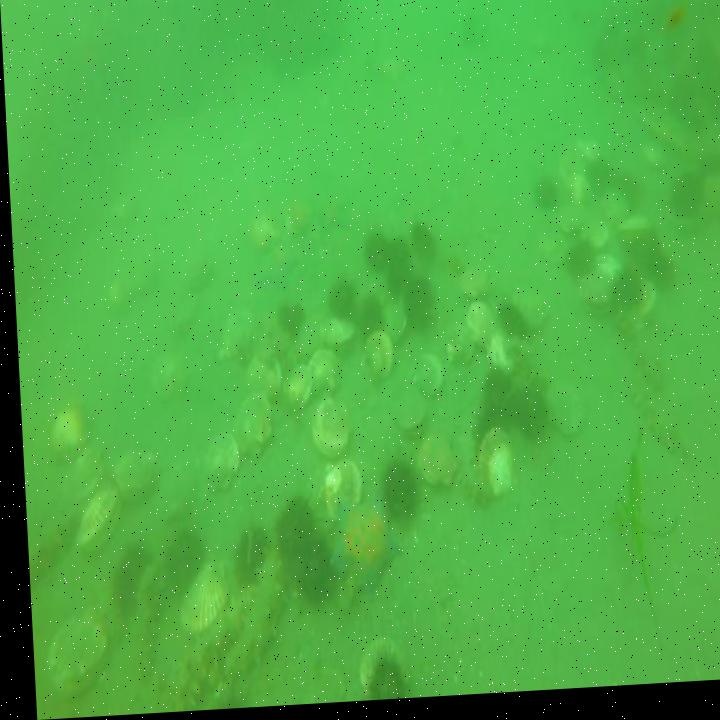echinus: (371, 451, 417, 533), (283, 537, 330, 616), (268, 493, 312, 568), (502, 384, 549, 454), (102, 540, 142, 619), (158, 527, 202, 598), (227, 528, 265, 599), (474, 363, 514, 427), (357, 648, 401, 705), (466, 395, 504, 455), (398, 279, 433, 338), (667, 176, 701, 232), (322, 276, 355, 332), (379, 243, 408, 303), (627, 231, 659, 282), (611, 175, 644, 224), (272, 301, 304, 350), (407, 221, 436, 273), (492, 302, 524, 349), (644, 257, 674, 305), (582, 161, 611, 210), (562, 243, 594, 287), (359, 229, 388, 277), (528, 177, 558, 221), (352, 298, 382, 341), (607, 275, 637, 317), (227, 334, 254, 374)
holothurian: (202, 550, 283, 712), (156, 589, 247, 712), (114, 561, 162, 689), (20, 497, 83, 579), (163, 297, 199, 341)
scallop: (38, 608, 105, 702), (169, 565, 227, 639), (68, 485, 119, 565), (227, 388, 273, 470), (468, 434, 516, 512), (193, 426, 238, 504), (306, 390, 351, 466), (408, 431, 456, 501), (102, 450, 160, 506), (539, 379, 586, 448), (316, 455, 360, 528), (142, 344, 189, 412), (42, 399, 90, 463), (213, 302, 256, 370), (349, 641, 393, 698), (240, 345, 279, 407), (578, 263, 619, 318), (478, 327, 517, 384), (459, 299, 495, 359), (302, 351, 342, 403), (387, 386, 423, 442), (406, 352, 441, 405), (357, 336, 392, 389), (246, 209, 281, 261), (452, 266, 488, 310), (278, 365, 310, 414), (281, 199, 313, 245), (611, 217, 654, 251), (378, 307, 408, 349), (577, 219, 608, 258), (317, 320, 352, 354), (634, 283, 655, 334)
starfish: (318, 498, 402, 600), (248, 253, 300, 294), (308, 192, 348, 242)
